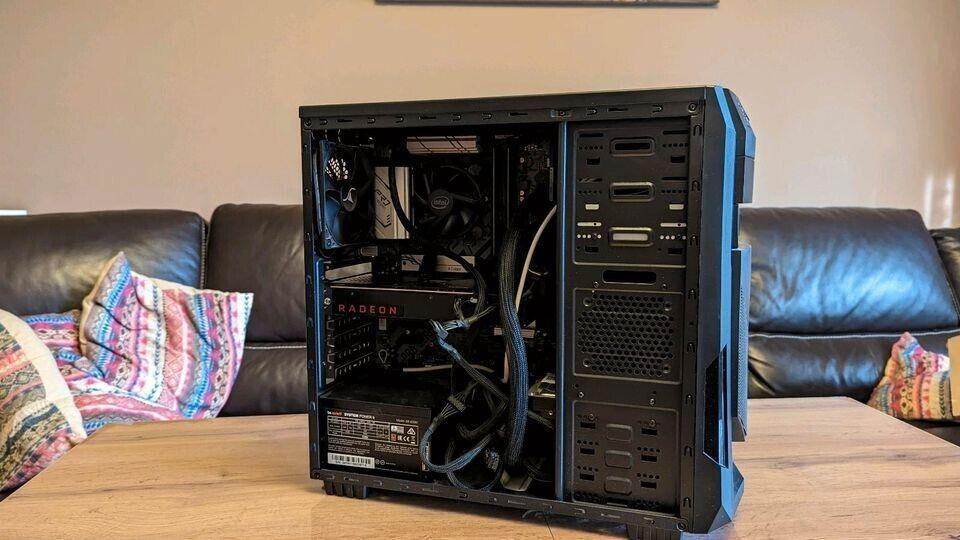DESKTOP PC: (292, 83, 765, 537)
